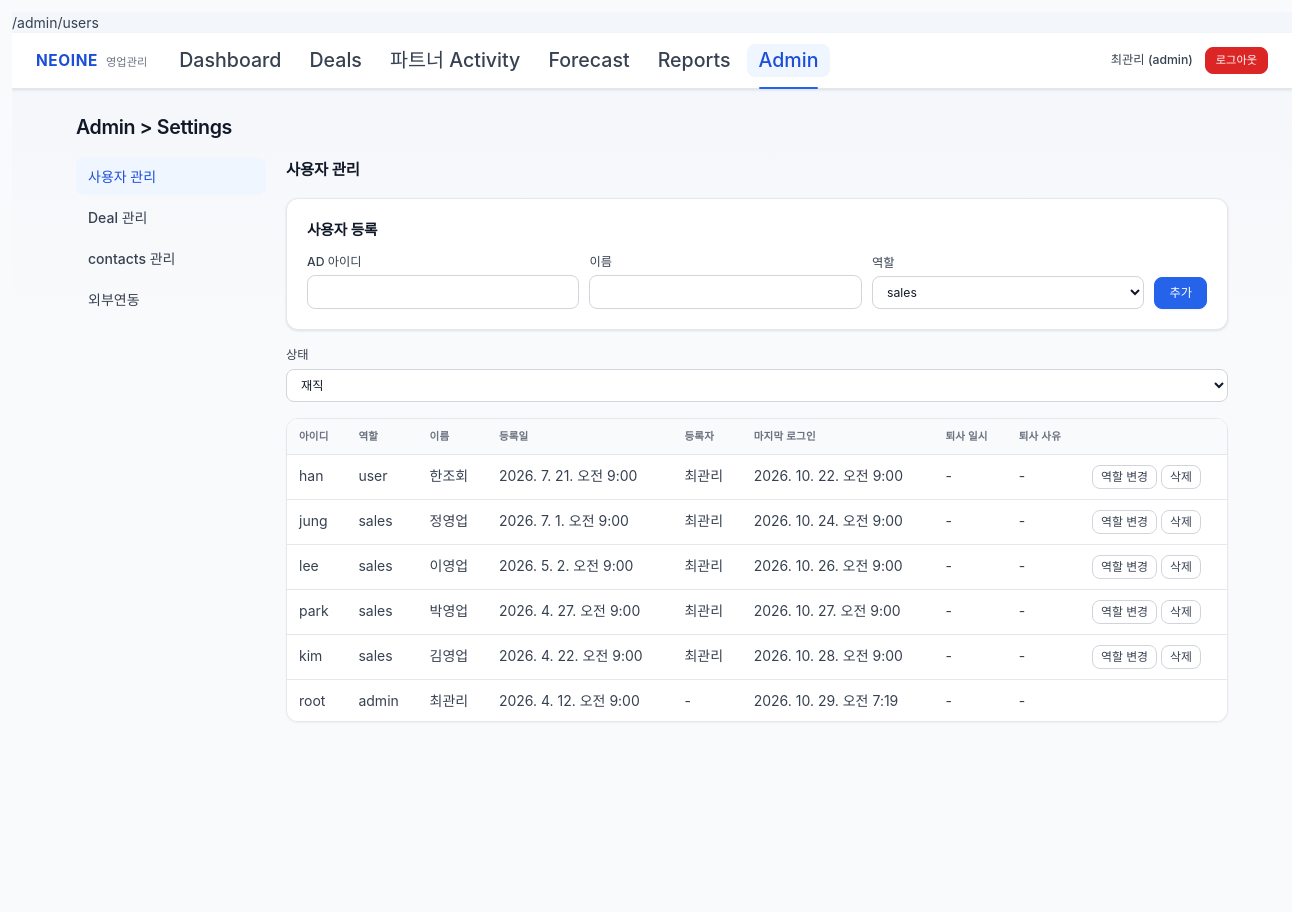
Test: 사용자 등록 (T-ADMIN-02) › shows the server message and keeps the input when the id already exists
Expected: the cell "kim" is shown, [287,635,346,680]
In the field labelled "AD 아이디": (443,292) [307,275,580,309], type "kim"
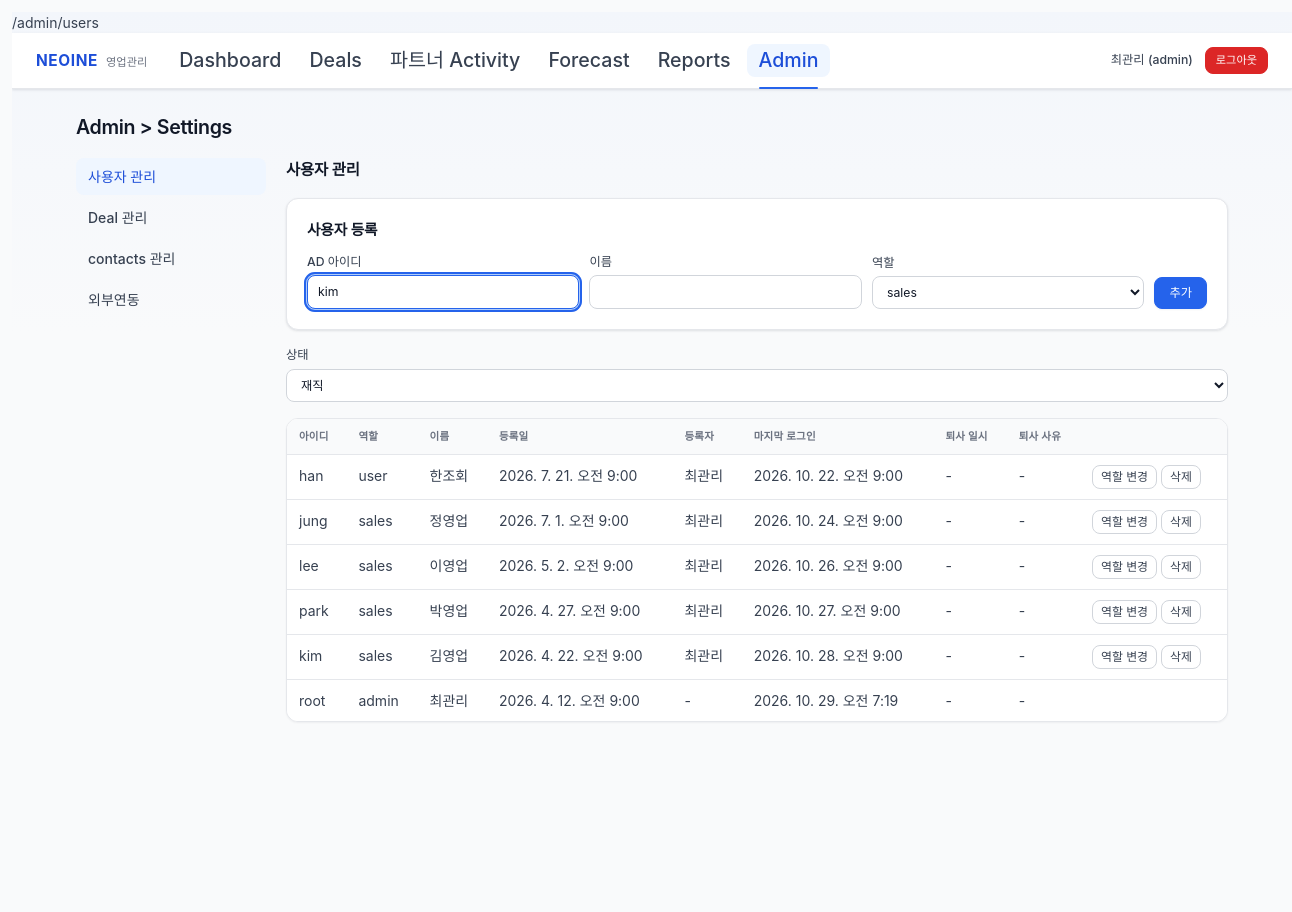
In the field labelled "이름": (726,292) [590,275,862,309], type "또김"
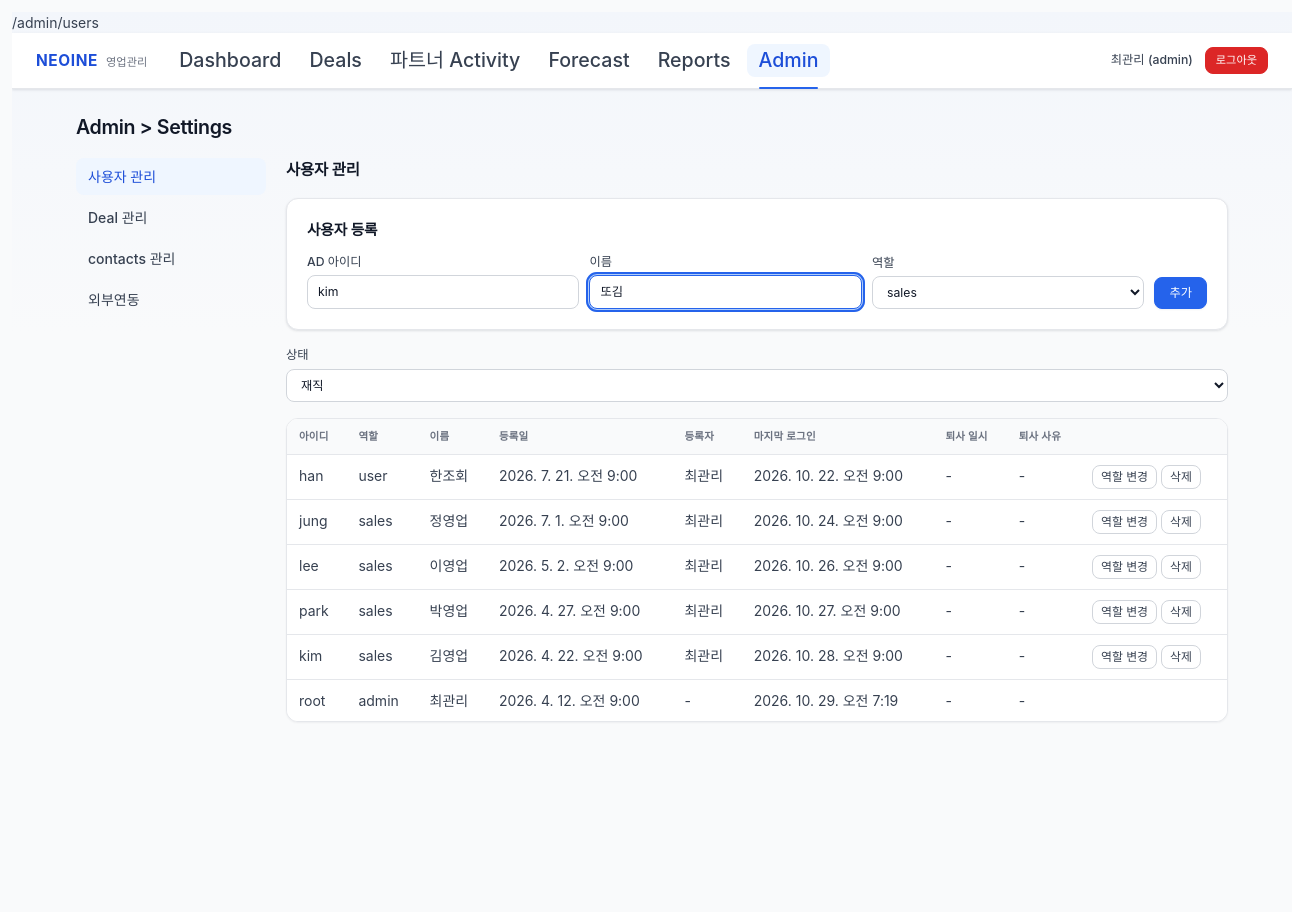
Click the button "추가": (1181,293) [1154,277,1207,309]
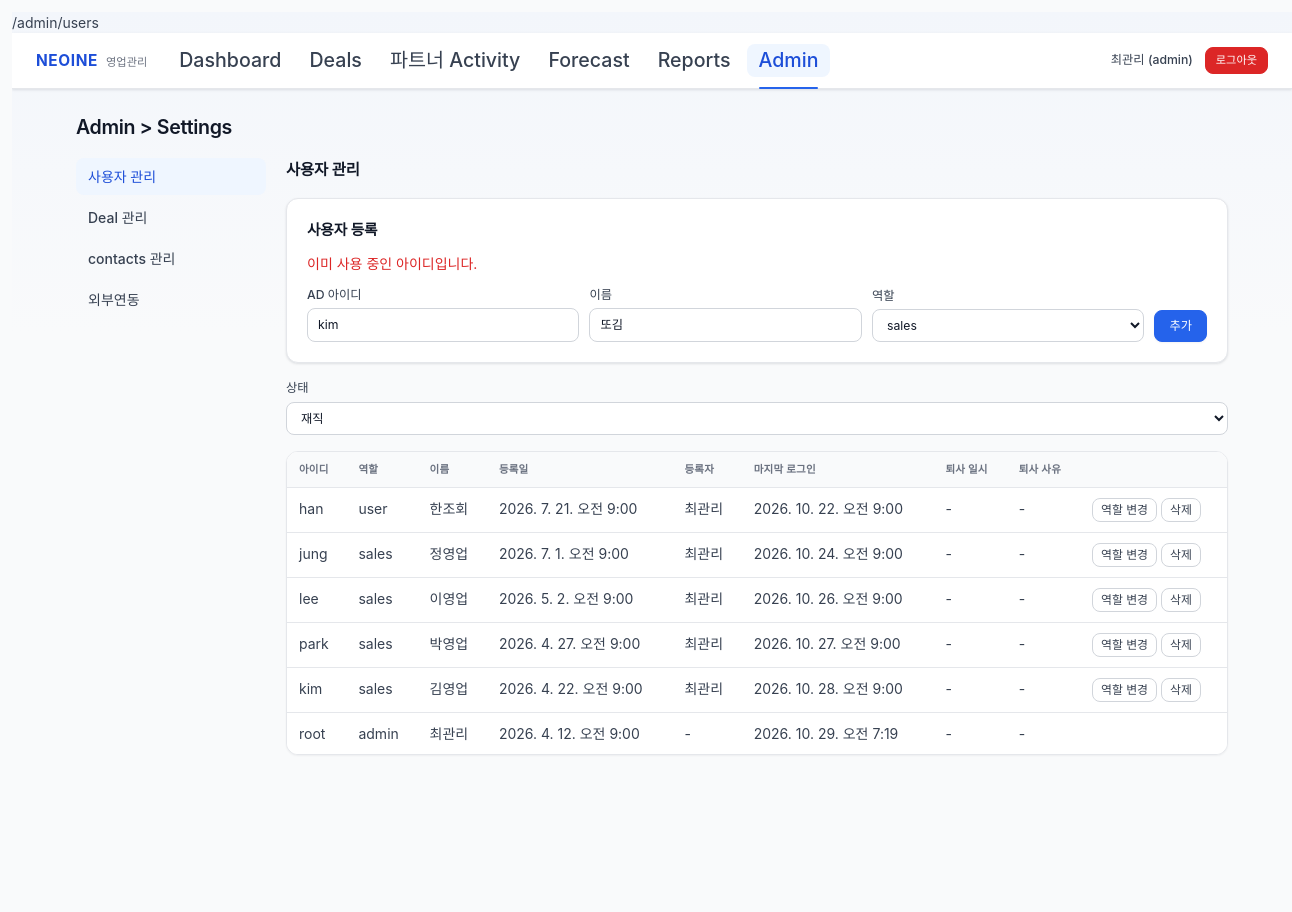
Now the message reads "이미 사용 중인 아이디입니다.", box [307,254,477,272]
